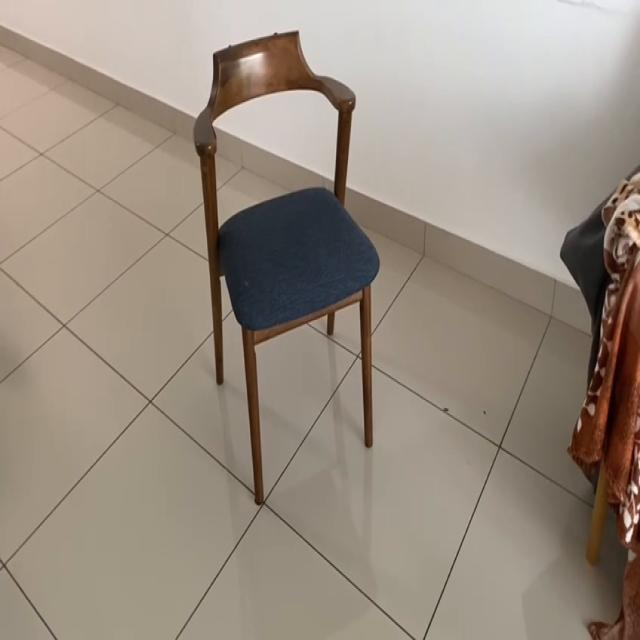Chair: (181, 29, 391, 501)
